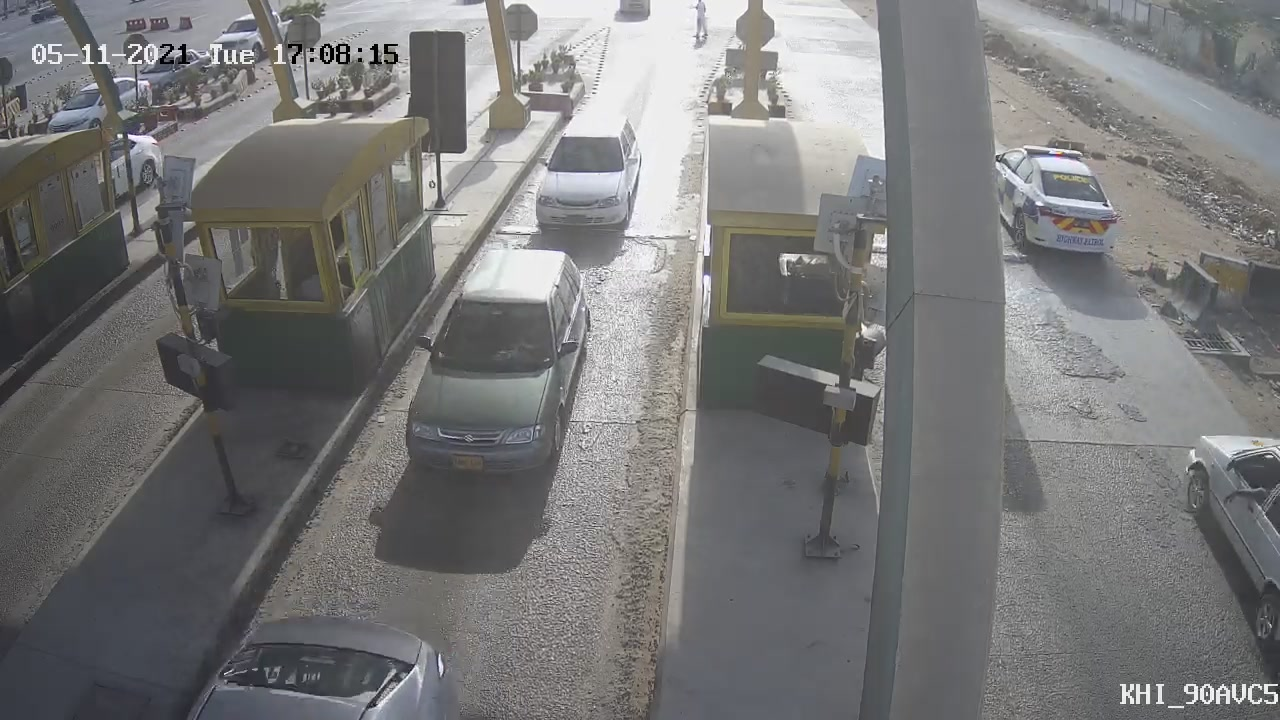F1: (382, 233, 607, 507), (520, 100, 657, 255)
